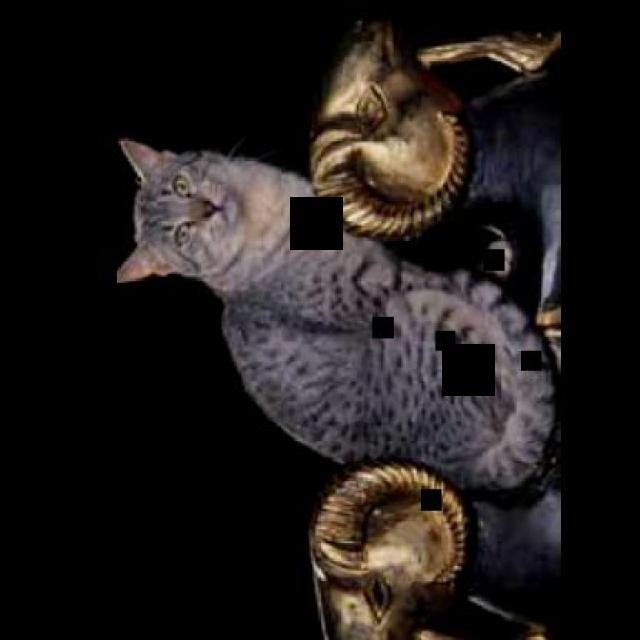unauthorized: (114, 135, 558, 494), (306, 15, 562, 360)
